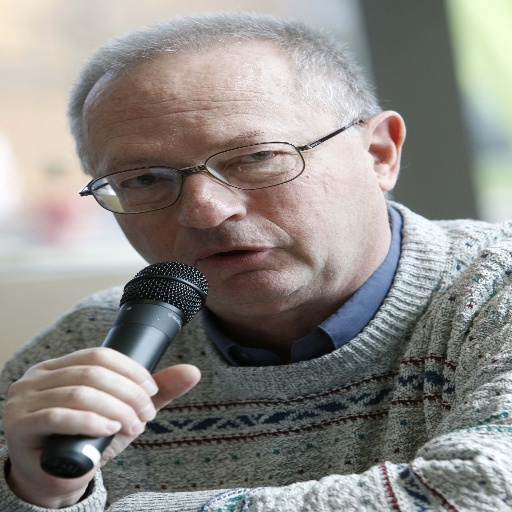hand: (14, 343, 210, 469)
